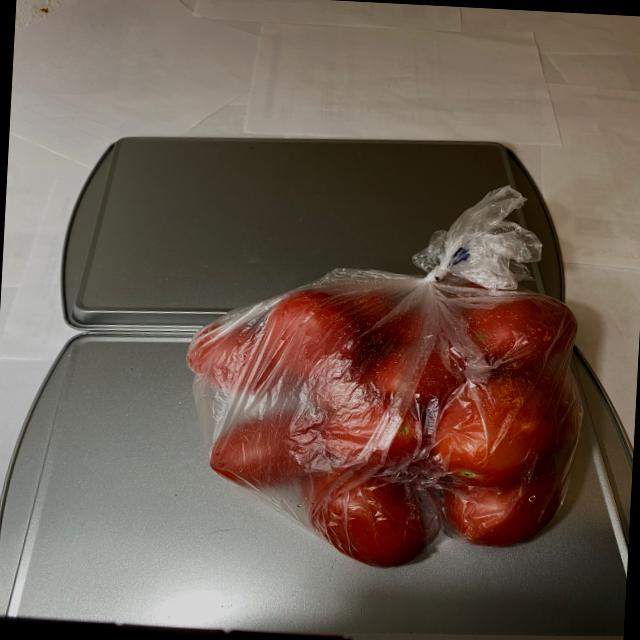tomato: (186, 272, 594, 575)
